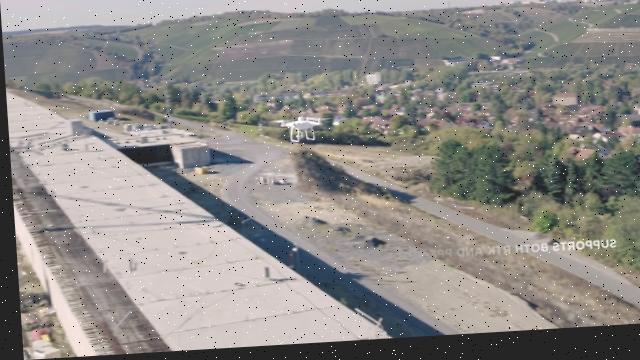drone: (268, 114, 331, 147)
